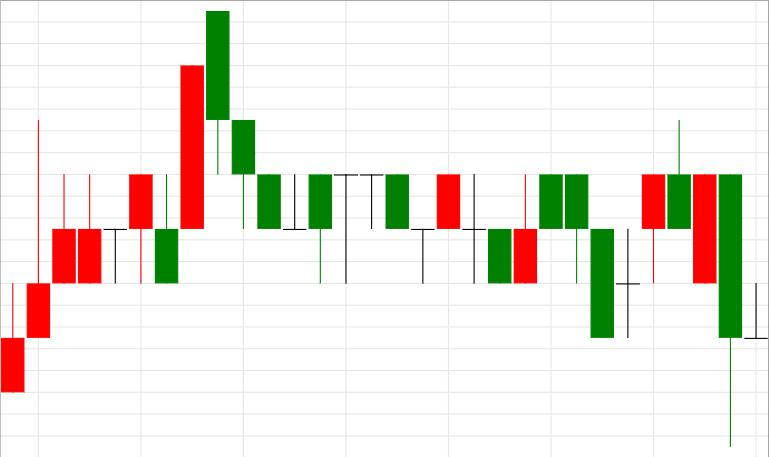three_black_crows_fall: (1, 11, 280, 393)
